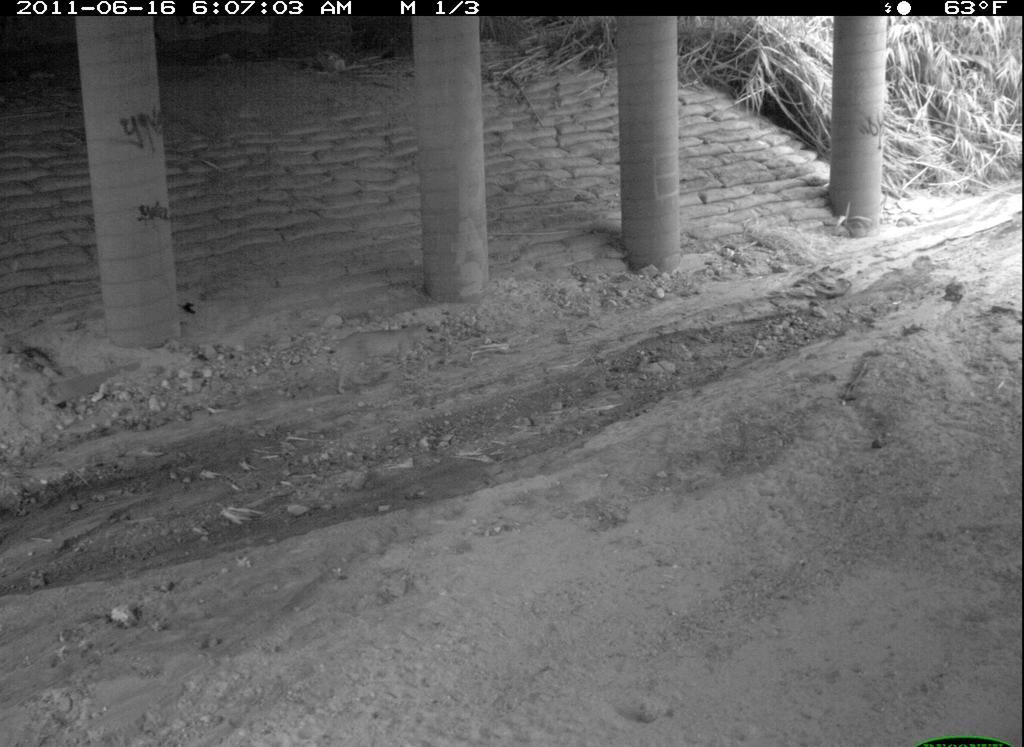bobcat: (649, 639, 869, 747)
